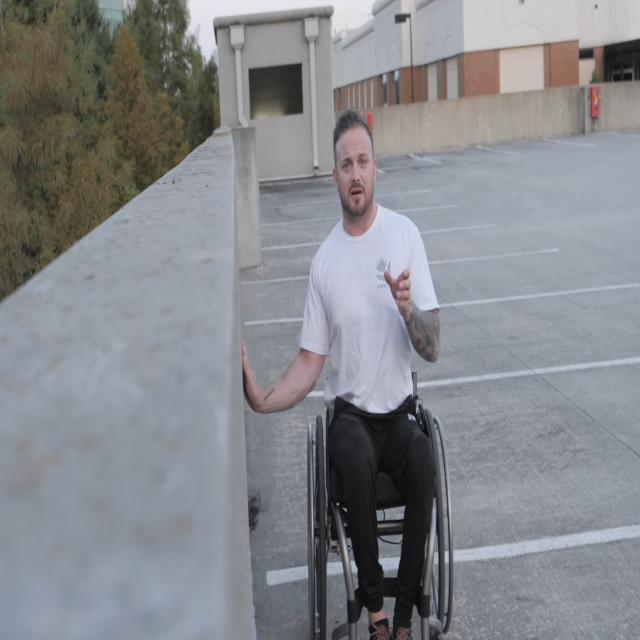wheelchairs: (302, 344, 456, 640)
